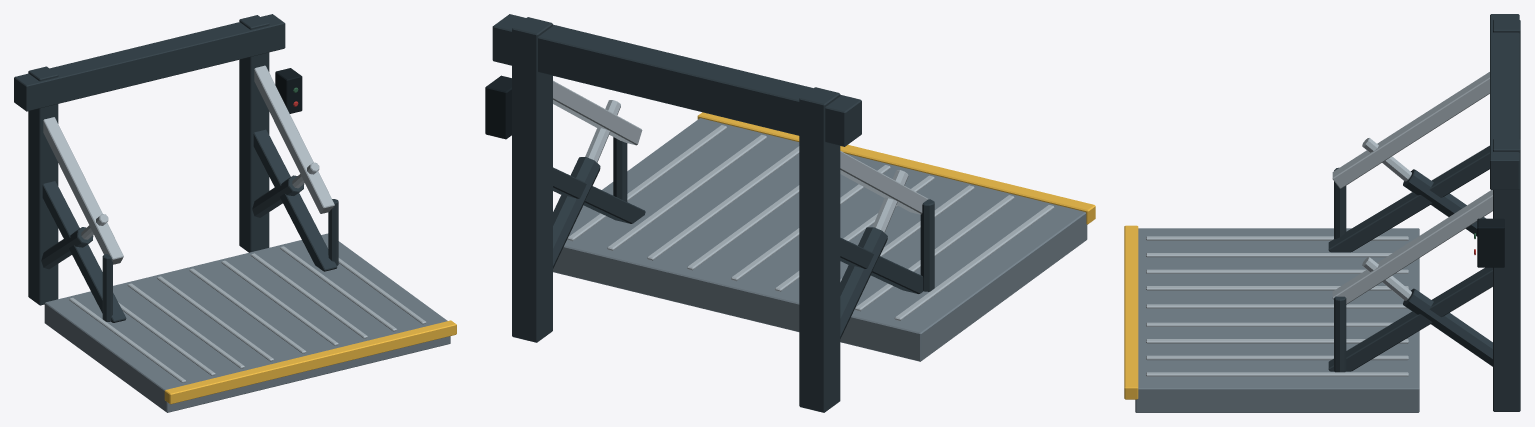
The model's file is b14_truck_tail_liftgate_assembly.glb.
3 views of the same model, side by side, from view 1: azimuth 30°, elevation 25°; view 2: azimuth 150°, elevation 25°; view 3: azimuth 270°, elevation 25° (orthographic). The views are drawn at different scales.
Visible parts, largest first — view 1: b14_truck_tail_liftgate_assembly; view 2: b14_truck_tail_liftgate_assembly; view 3: b14_truck_tail_liftgate_assembly.
Boxes of the visible parts, bbox=[...] form: b14_truck_tail_liftgate_assembly: bbox=[14, 14, 456, 412]; b14_truck_tail_liftgate_assembly: bbox=[485, 14, 1095, 412]; b14_truck_tail_liftgate_assembly: bbox=[1124, 14, 1520, 412].
Bounding box in the file's own units: 1.96 × 1.48 × 2.02.
